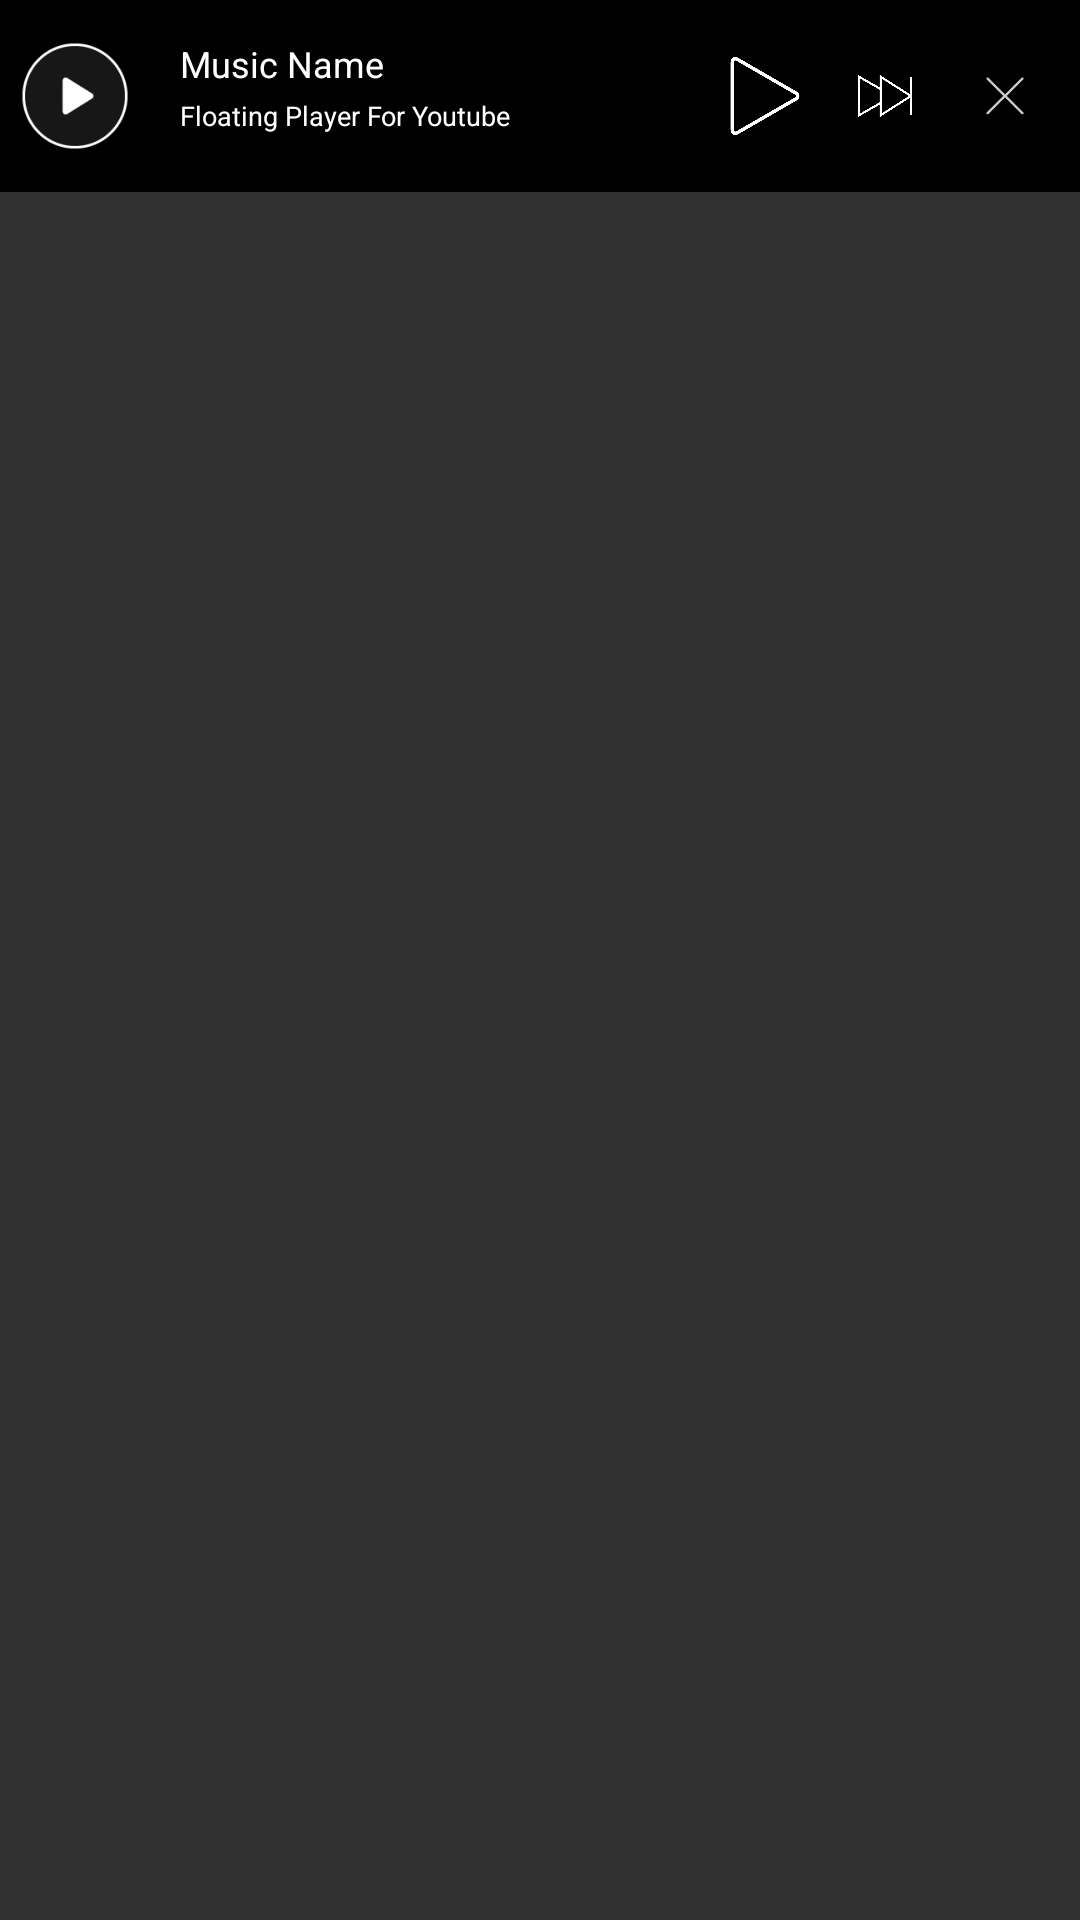

Icon bounding boxes for this 1080 x 1920 phone screenshot, format (x1=x1, y1=y1, x2=x2, y2=y2):
close: (x1=986, y1=77, x2=1024, y2=115)
next music: (x1=858, y1=75, x2=912, y2=117)
play: (x1=730, y1=57, x2=800, y2=135)
play for float: (x1=22, y1=43, x2=128, y2=149)
